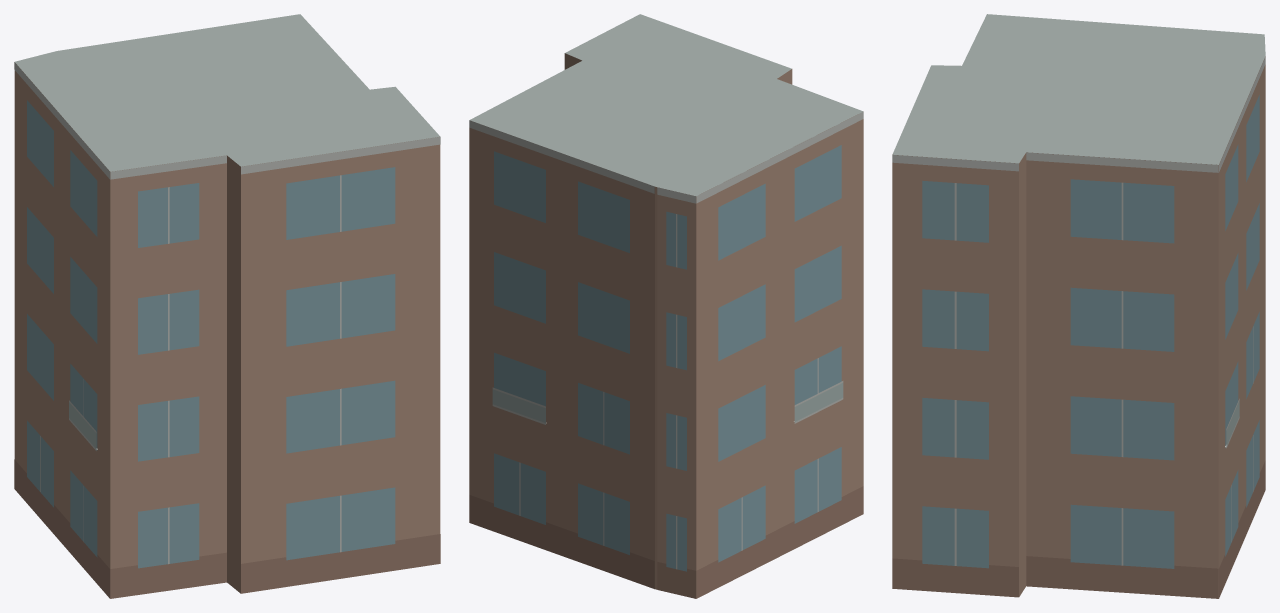
Rendered from survey-upis-32475544.glb.
The picture shows the model from 3 angles, left to right: view 1: azimuth 30°, elevation 25°; view 2: azimuth 150°, elevation 25°; view 3: azimuth 270°, elevation 25°; orthographic projection. The views are drawn at different scales.
Visible parts, largest first — view 1: survey-upis-32475544.tmp; view 2: survey-upis-32475544.tmp; view 3: survey-upis-32475544.tmp.
Part boxes in pixels (bbox=[...]): survey-upis-32475544.tmp: bbox=[14, 14, 440, 598]; survey-upis-32475544.tmp: bbox=[469, 14, 863, 598]; survey-upis-32475544.tmp: bbox=[892, 14, 1265, 598].
Size of the model in its own units: 9.85 by 13.2 by 10.3.
